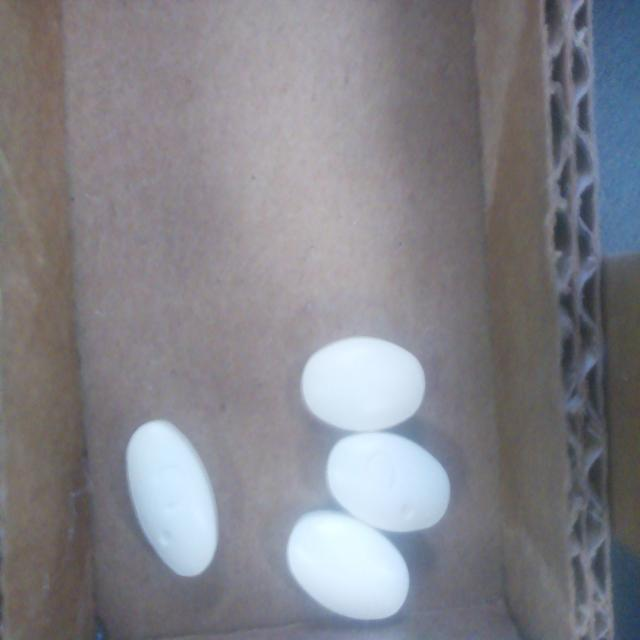pill: (126, 420, 219, 576), (286, 510, 409, 620), (326, 432, 450, 532), (301, 337, 425, 432)
